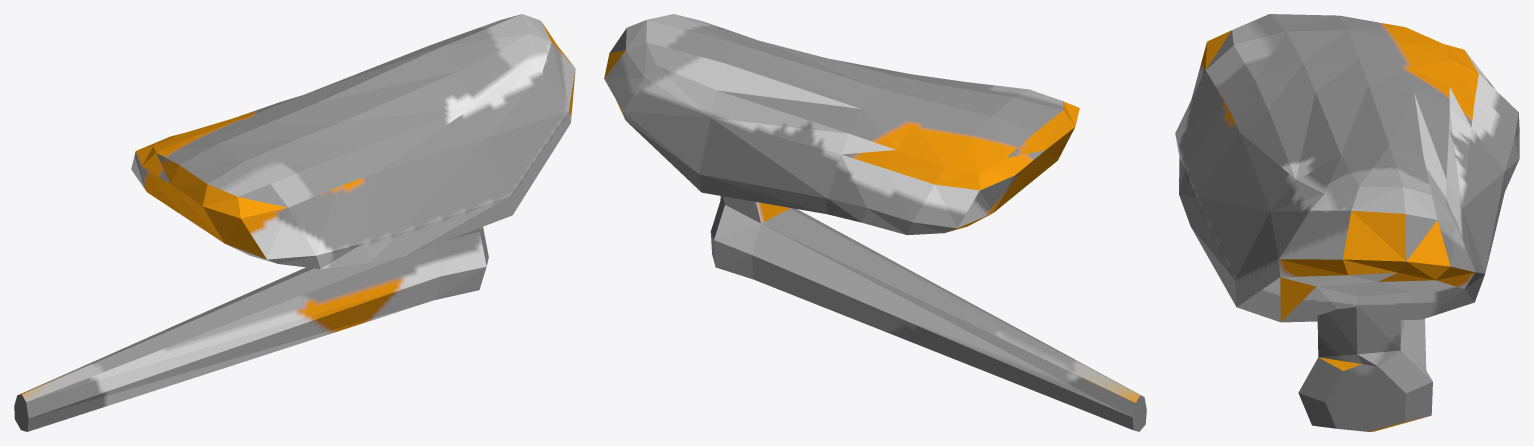
The model's file is LeftShoulder.obj.
3 views of the same model, side by side, from view 1: azimuth 30°, elevation 25°; view 2: azimuth 150°, elevation 25°; view 3: azimuth 270°, elevation 25° (orthographic). The views are drawn at different scales.
Visible parts, largest first — view 1: LeftShoulder_Mesh.468; view 2: LeftShoulder_Mesh.468; view 3: LeftShoulder_Mesh.468.
Part boxes in pixels (<box>): LeftShoulder_Mesh.468: <box>14,14,575,431</box>; LeftShoulder_Mesh.468: <box>604,14,1146,431</box>; LeftShoulder_Mesh.468: <box>1175,14,1519,431</box>.
Size of the model in its own units: 0.191 by 0.1002 by 0.0851.
1 material, 1 textured.
